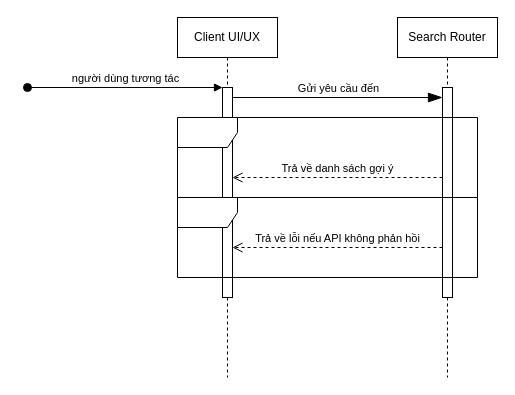
The diagram is 515 pixels wide and 395 high, and some of its shapes have lost their labels. Each missing label, with the box of its shape:
Lỗi: (176, 196, 478, 278)
Thành công: (176, 116, 478, 198)
